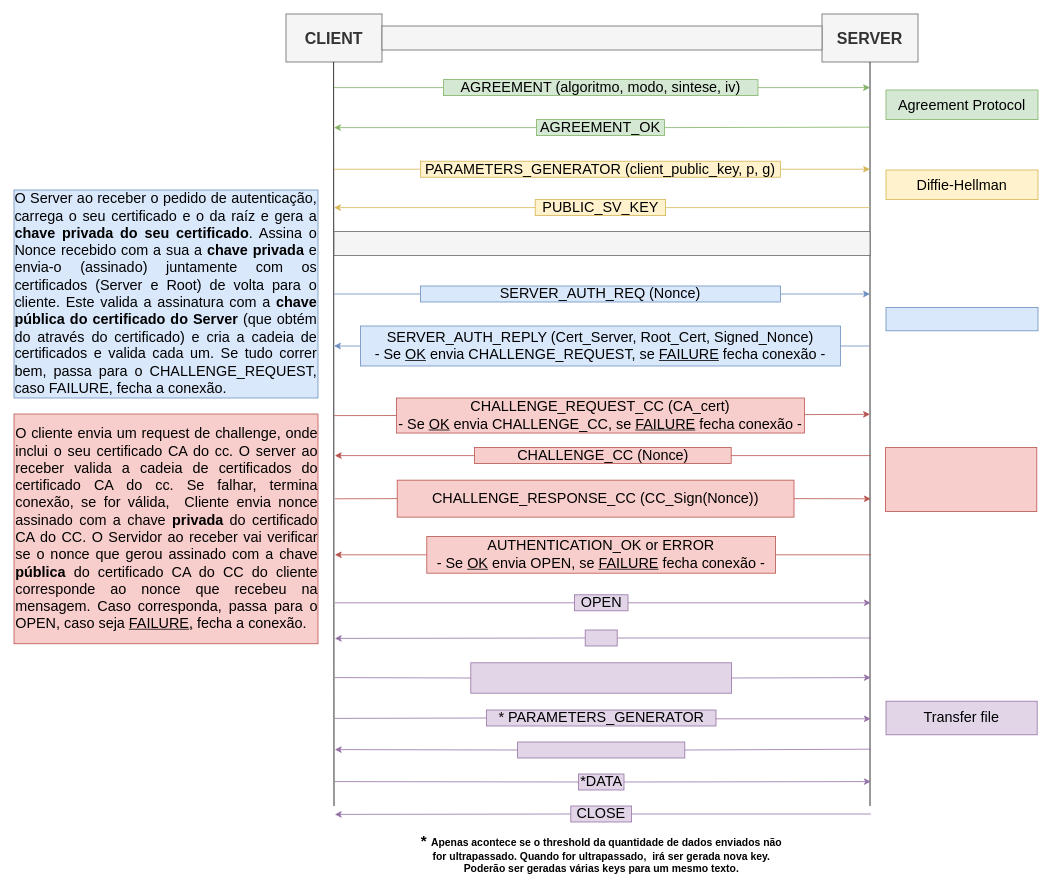
Image size: 1052x890. Some labels were removed from this diagram. Here are the shapes that lost their labels. From the top down, the box of each, then its label:
(381, 25, 822, 50): AUTENTICAÇÃO CC
(333, 231, 870, 256): Todas as mensagens enviadas daqui para baixo são encriptadas (SECURE_X)
(885, 307, 1038, 331): Autenticação Servidor
(885, 447, 1037, 512): Mecanismo de desafio-resposta
(584, 629, 617, 646): OK
(470, 662, 732, 693): DATA - até acabar envio ou passar threshold -
(517, 741, 685, 758): * PUBLIC_SV_KEY / OK
